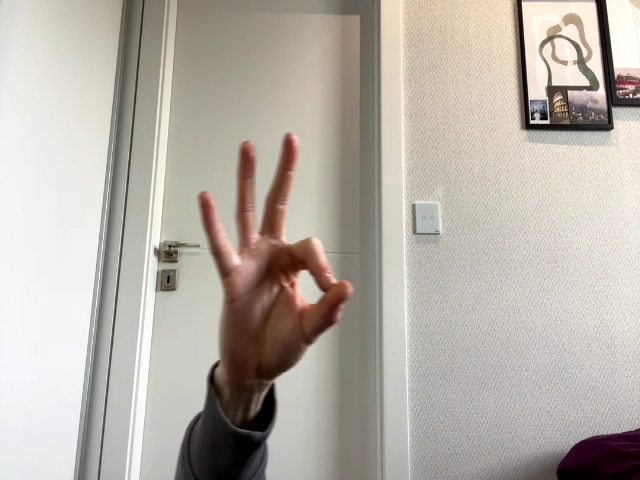O: (198, 133, 352, 378)
